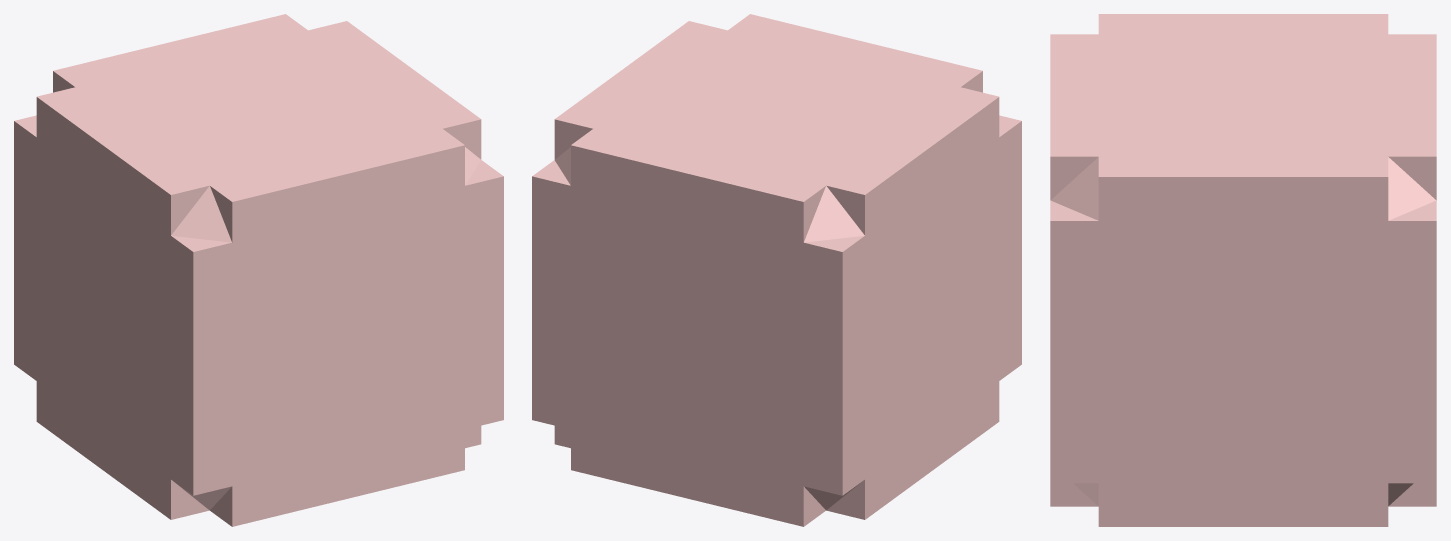
The model's file is fancy_cube.obj.
3 renders of one model, left to right at view 1: azimuth 30°, elevation 25°; view 2: azimuth 150°, elevation 25°; view 3: azimuth 270°, elevation 25°, orthographic. The views are drawn at different scales.
Parts seen in each view (by area): view 1: Cube; view 2: Cube; view 3: Cube.
Part boxes in pixels (x1,y1,x2,y2): Cube: [14, 14, 503, 526]; Cube: [532, 14, 1021, 526]; Cube: [1050, 14, 1436, 526].
Size of the model in its own units: 2 by 2 by 2.
